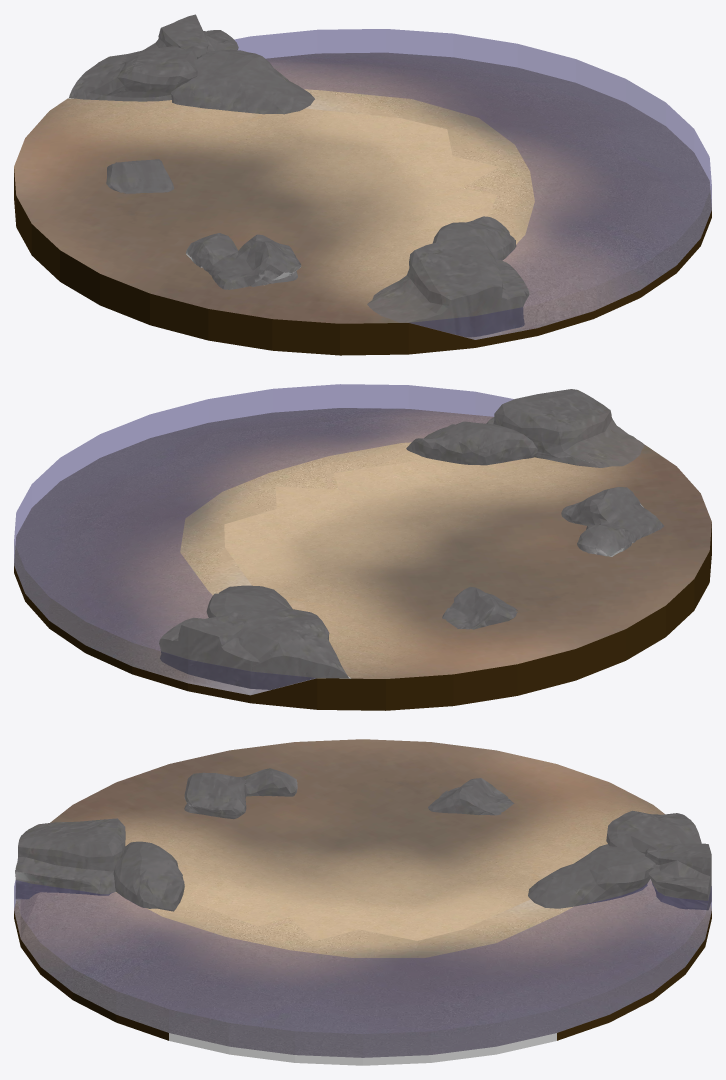
File: Biome_Swamp.glb
The picture shows the model from 3 angles, top to bottom: view 1: azimuth 30°, elevation 25°; view 2: azimuth 150°, elevation 25°; view 3: azimuth 270°, elevation 25°; orthographic projection.
Visible parts, largest first — view 1: Circle.003-1, Circle.003-2, Circle.003-3, Circle.003-4, Circle.003-0; view 2: Circle.003-1, Circle.003-2, Circle.003-3, Circle.003-4, Circle.003-0; view 3: Circle.003-3, Circle.003-1, Circle.003-2, Circle.003-4, Circle.003-0.
Part boxes in pixels (<box>): Circle.003-1: <box>14,98,498,323</box>; Circle.003-2: <box>234,29,711,339</box>; Circle.003-3: <box>68,52,711,339</box>; Circle.003-4: <box>69,14,529,337</box>; Circle.003-0: <box>14,169,711,355</box>; Circle.003-1: <box>224,453,711,678</box>; Circle.003-2: <box>14,384,513,694</box>; Circle.003-3: <box>14,408,657,695</box>; Circle.003-4: <box>159,389,663,689</box>; Circle.003-0: <box>14,524,711,710</box>; Circle.003-3: <box>14,817,711,1057</box>; Circle.003-1: <box>57,739,664,1065</box>; Circle.003-2: <box>14,879,711,1057</box>; Circle.003-4: <box>15,768,711,911</box>; Circle.003-0: <box>14,911,711,1040</box>.
Size of the model in its own units: 12.19 by 1.32 by 12.19.
Materials: 5 (3 with a texture image).
